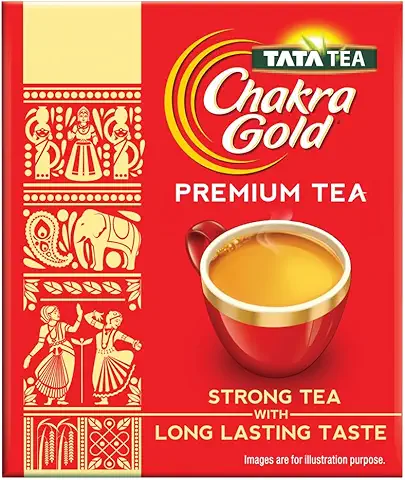Tea: (7, 5, 405, 480)
